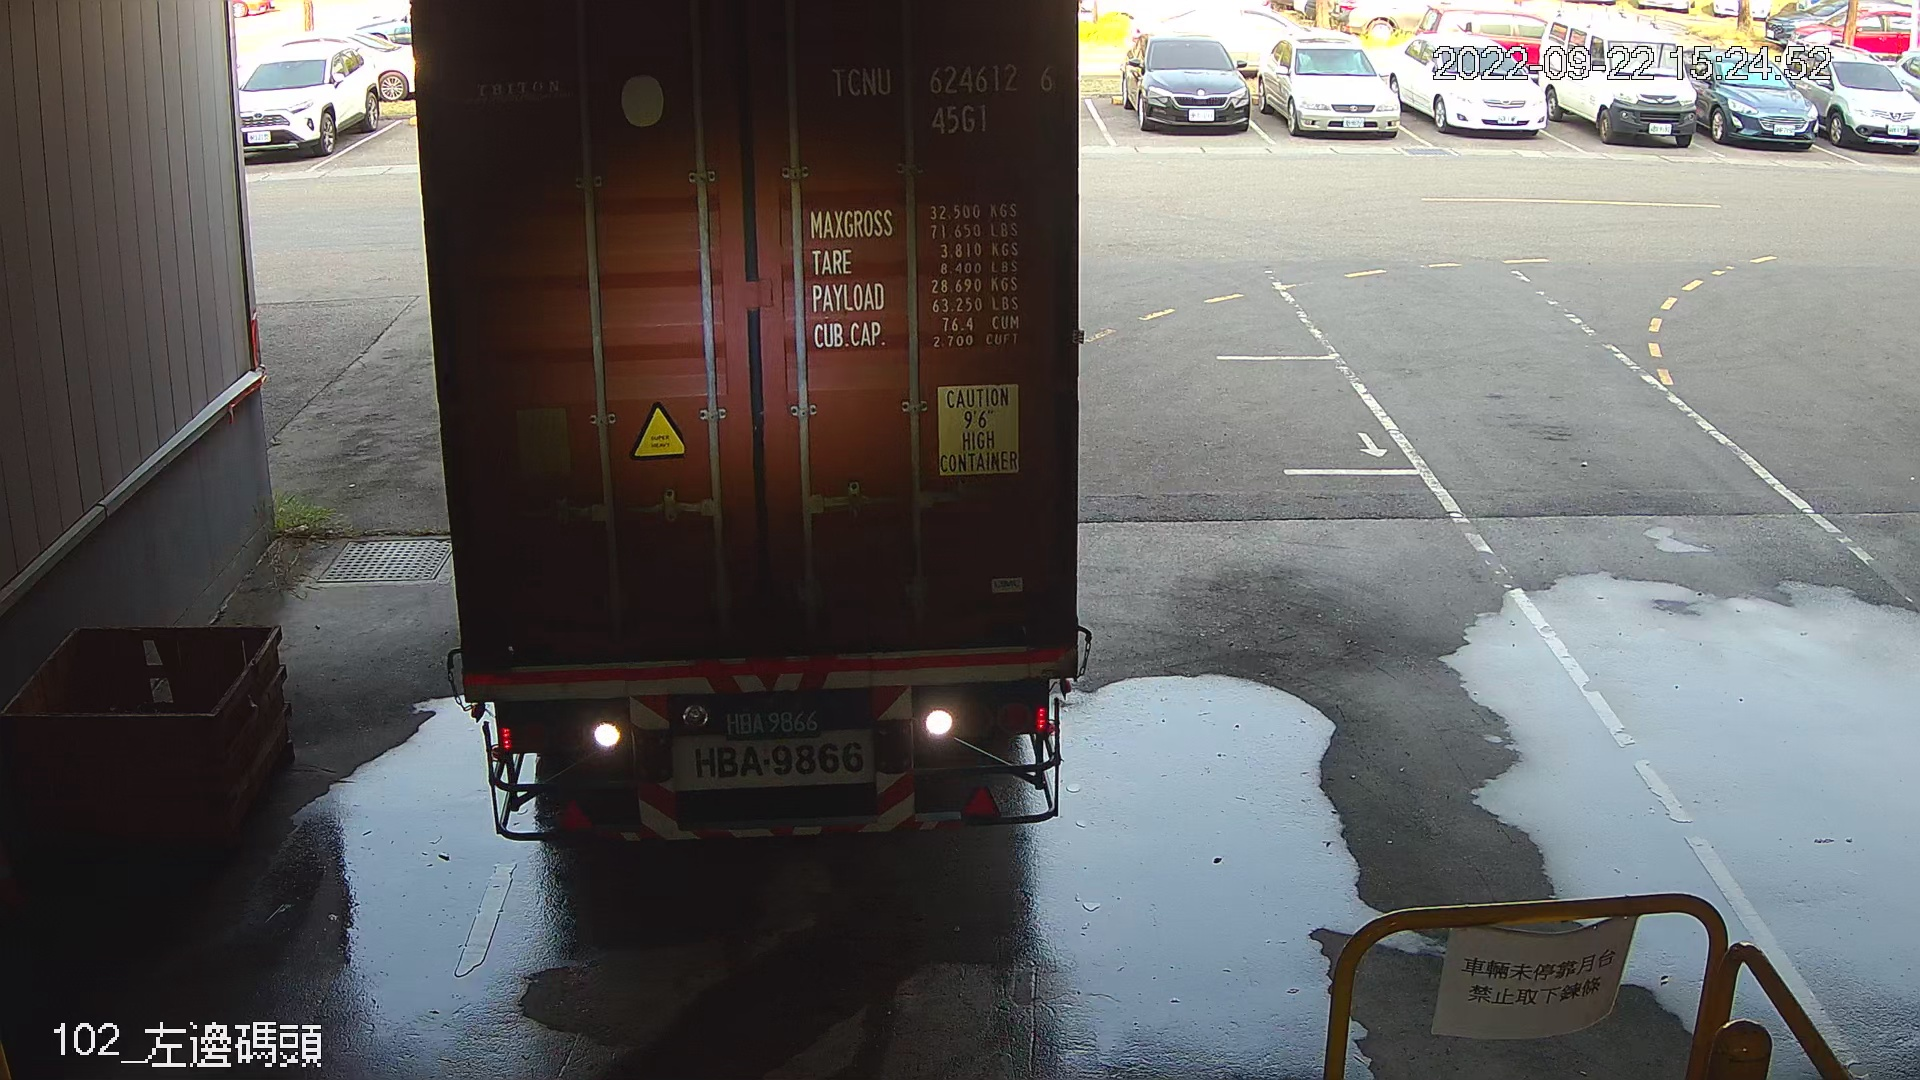container: (816, 47, 1063, 142)
